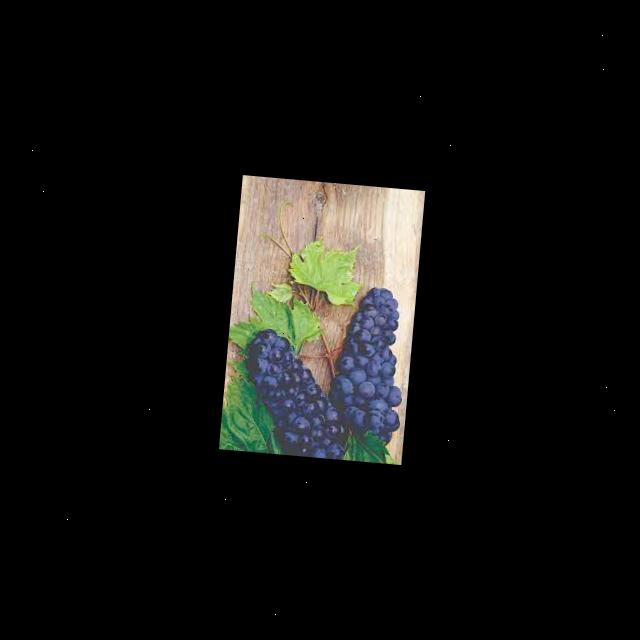grape: (237, 326, 354, 459), (324, 283, 410, 447)
